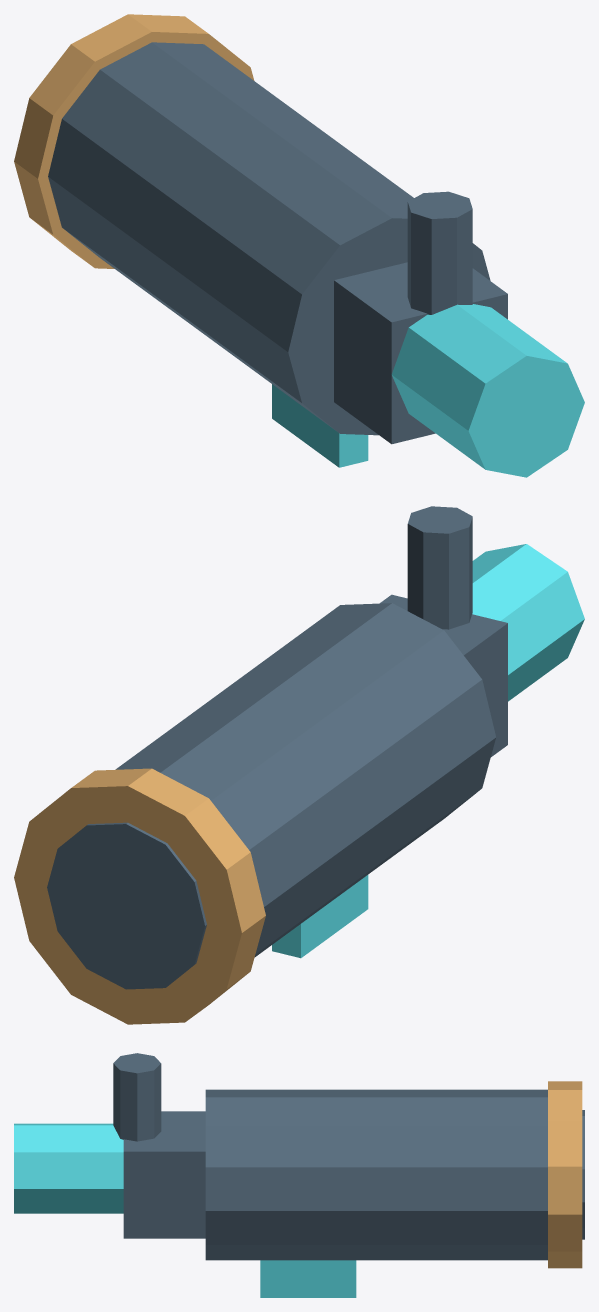
The picture shows the model from 3 angles, top to bottom: view 1: azimuth 30°, elevation 25°; view 2: azimuth 150°, elevation 25°; view 3: azimuth 270°, elevation 25°; orthographic projection. The views are drawn at different scales.
Visible parts, largest first — view 1: wild-launcher; view 2: wild-launcher; view 3: wild-launcher.
Part boxes in pixels (bbox=[...]): wild-launcher: bbox=[14, 14, 584, 477]; wild-launcher: bbox=[14, 506, 584, 1024]; wild-launcher: bbox=[14, 1053, 584, 1297].
Size of the model in its own units: 0.274 by 0.37 by 0.834.
